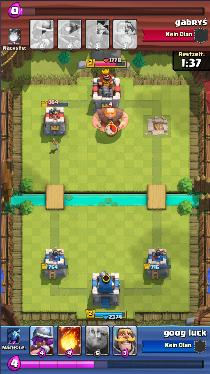enemy_giant: (92, 107, 128, 132)
